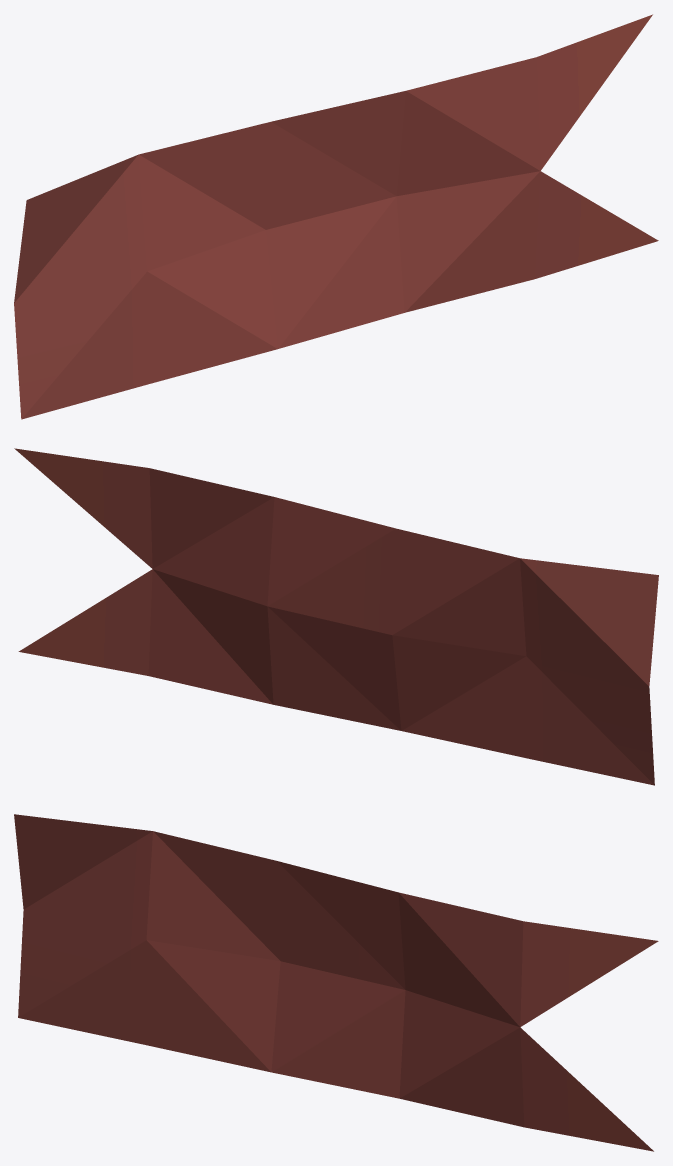
File: plainsFlag03.fbx
The picture shows the model from 3 angles, top to bottom: view 1: azimuth 30°, elevation 25°; view 2: azimuth 150°, elevation 25°; view 3: azimuth 330°, elevation 25°; orthographic projection. The views are drawn at different scales.
Parts seen in each view (by area): view 1: plainsFlag03; view 2: plainsFlag03; view 3: plainsFlag03.
Part boxes in pixels (x1,y1,x2,y2): plainsFlag03: (14,14,658,419); plainsFlag03: (14,448,658,785); plainsFlag03: (14,814,658,1151).
Size of the model in its own units: 1.64 by 0.526 by 0.1442.
1 material, 1 textured.
